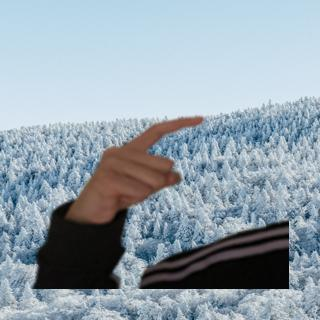WHY: (66, 102, 211, 224)
